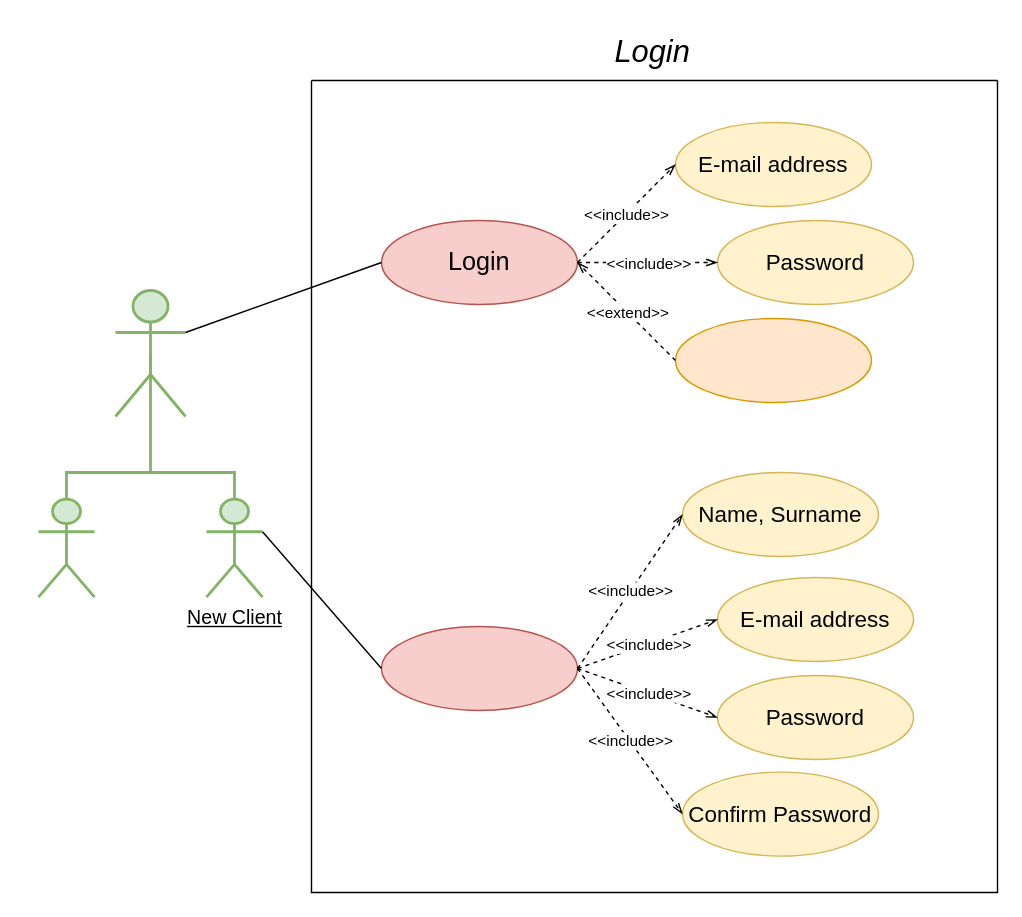
Some shapes in this 1022 by 917 pixel diagram are drawn without their labels. Each missing label, with the box of its shape:
Client: (113, 288, 186, 417)
Forgot My Password: (674, 317, 872, 402)
Old Client: (36, 497, 95, 598)
Sign Up: (380, 625, 578, 710)
